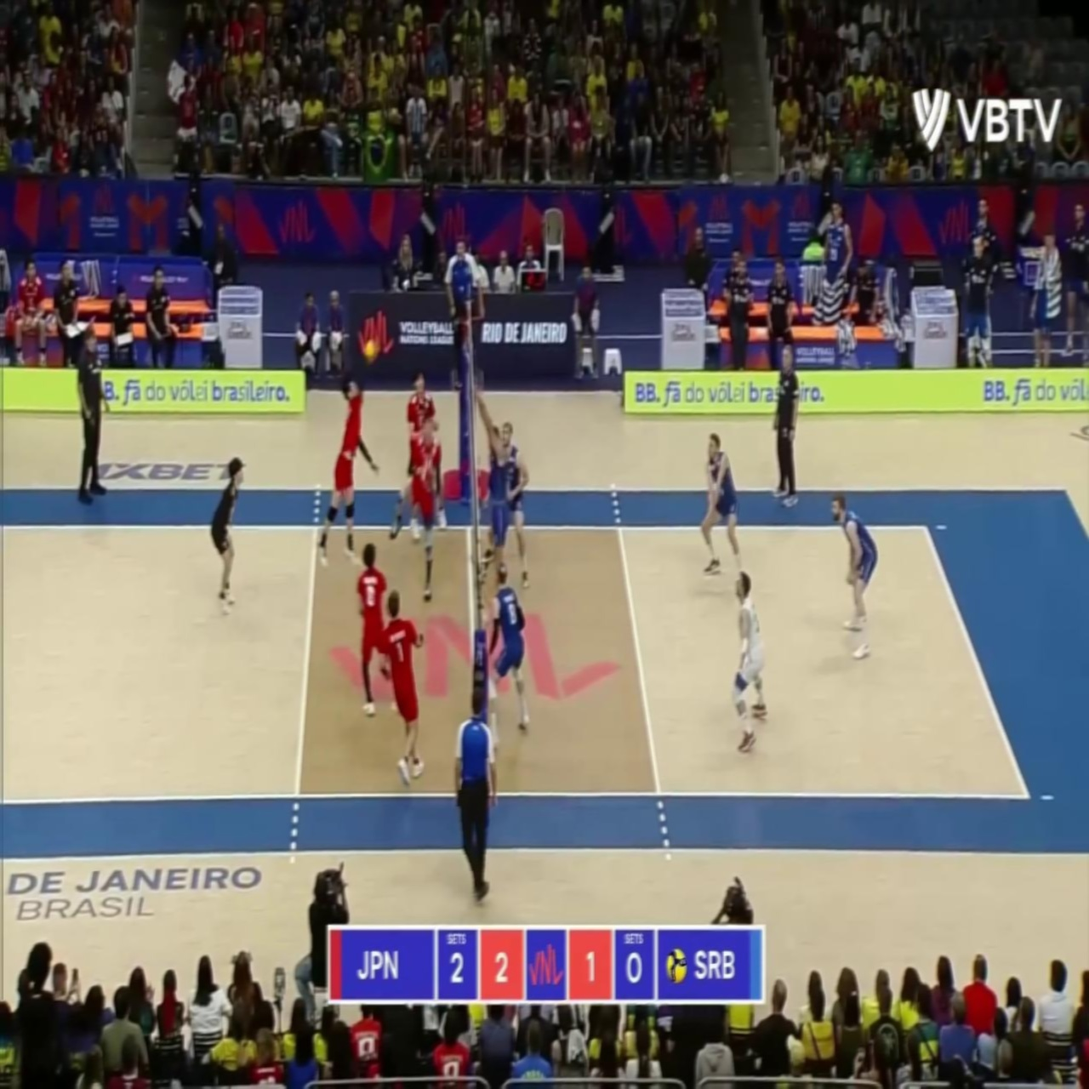ball: (363, 340, 376, 363)
